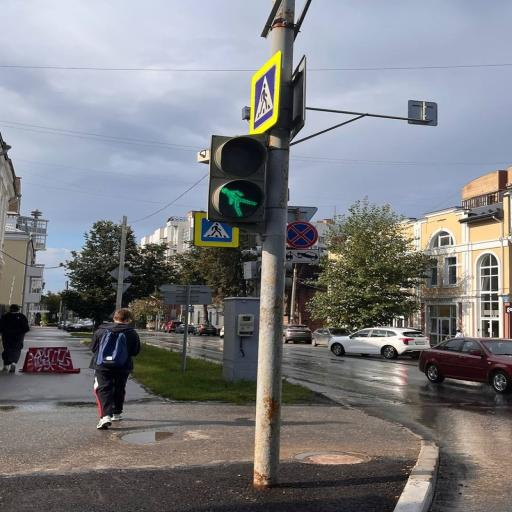bottle: (419, 338, 511, 394)
construction_fence: (394, 441, 438, 511)
laptop: (90, 308, 140, 429)
phone: (254, 0, 295, 488)
table: (208, 135, 268, 226)
